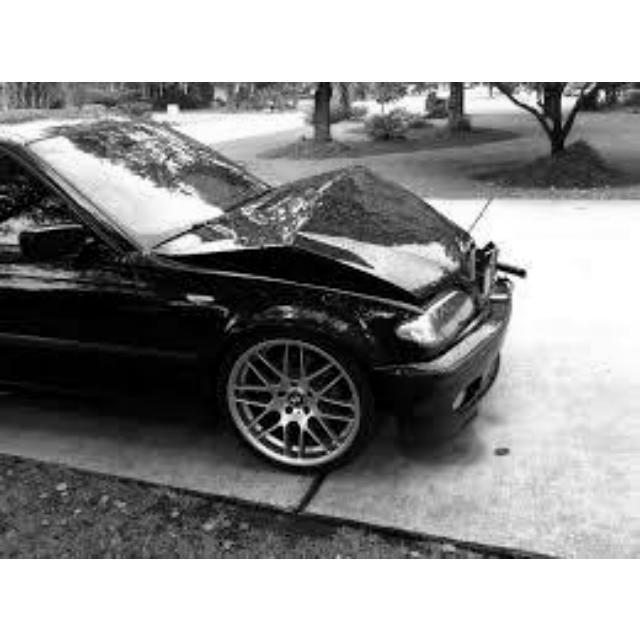bonnet-dent: (195, 158, 426, 293)
fender-dent: (205, 273, 367, 337)
